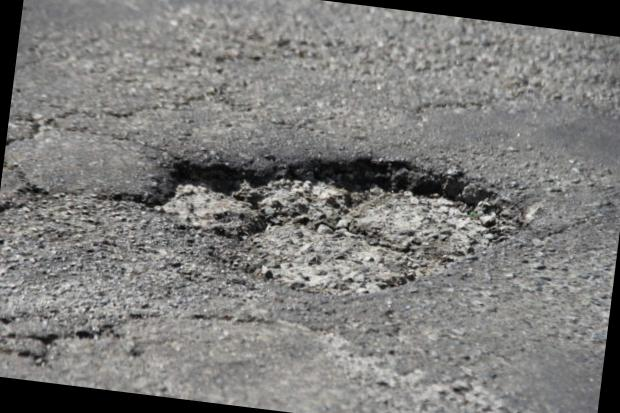pothole: (104, 118, 539, 361)
